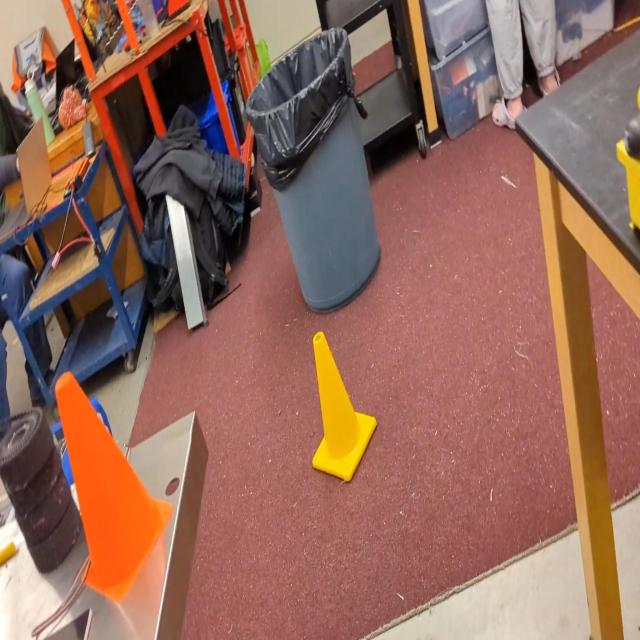frc_cone: (310, 331, 378, 478)
